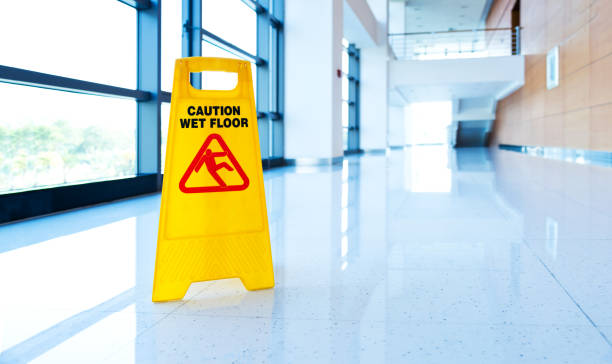wet caution sign: (135, 42, 292, 310)
